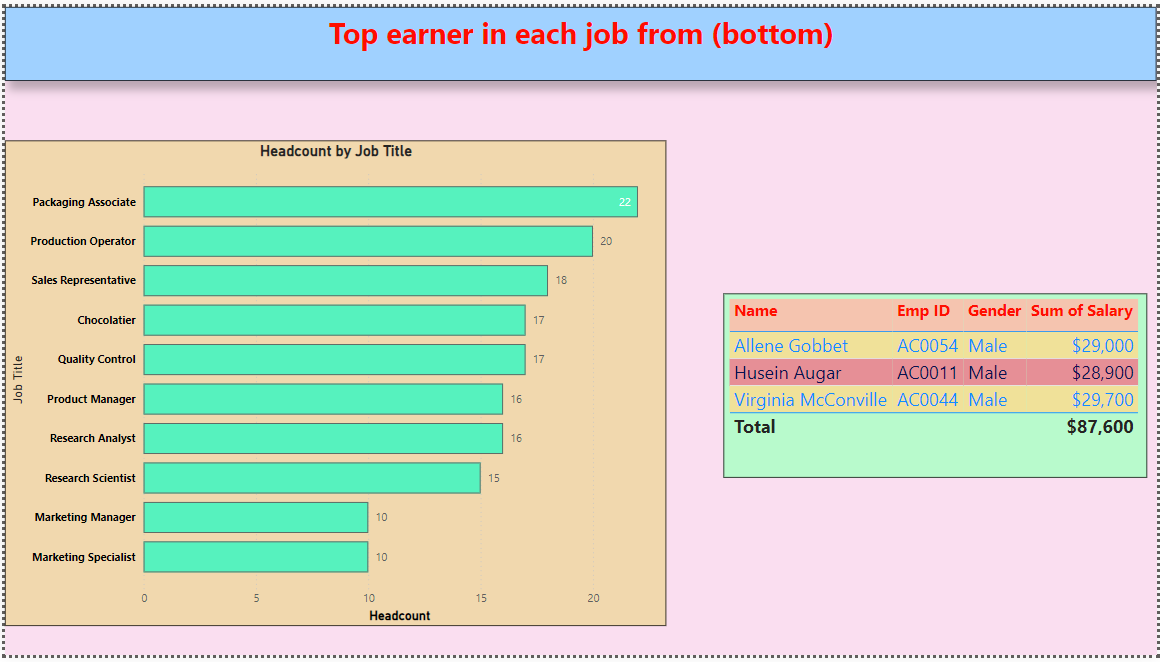

Layout of this report page (visuals, bound fields, positions):
{"tool":"powerbi","page":{"name":"Q5.2","canvas":[1280,720],"ordinal":5},"visuals":[{"type":"clusteredBarChart","fields":{"Category":["staff.Job Title"],"Y":["staff.Measure"]},"box":[0,148.4,734.4,539.1],"z":0},{"type":"tableEx","fields":{"Values":["staff.Name","staff.Emp ID","staff.Gender","Sum(staff.Salary)"]},"box":[798,318,470.9,204.4],"z":1000},{"type":"textbox","box":[0,0,1279.5,81.8],"z":2000}]}

Visuals, with their boxes in screenshot pixels (x1, y1, x2, y2), scaled from the page's 1280x720 canvas onto the 1160x662 screenshot:
clusteredBarChart - staff.Job Title x staff.Measure: {"left": 0, "top": 136, "right": 666, "bottom": 632}
tableEx - staff.Name x staff.Emp ID: {"left": 723, "top": 292, "right": 1150, "bottom": 480}
textbox: {"left": 0, "top": 0, "right": 1159, "bottom": 75}
